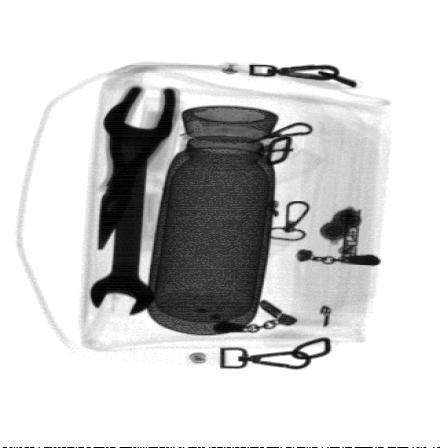Pliers: (99, 85, 182, 249)
Wrench: (87, 99, 174, 319)
